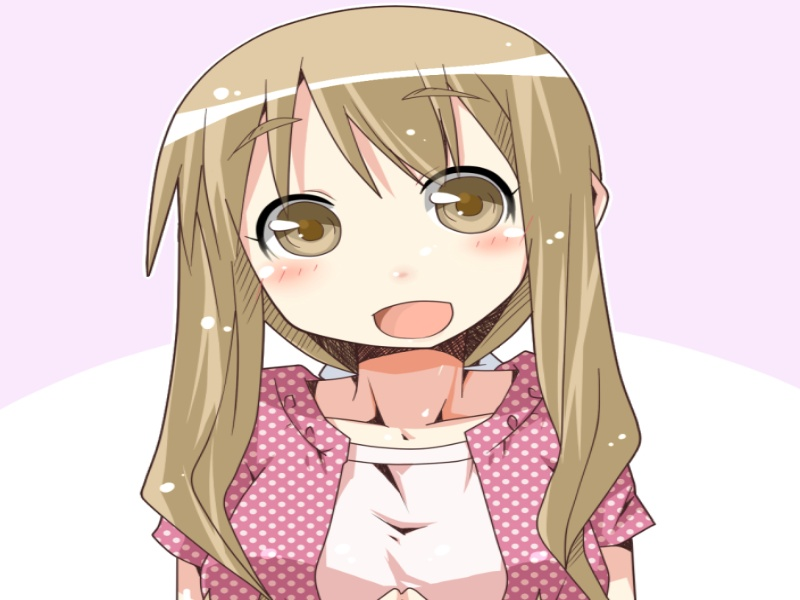person: (147, 4, 654, 437)
